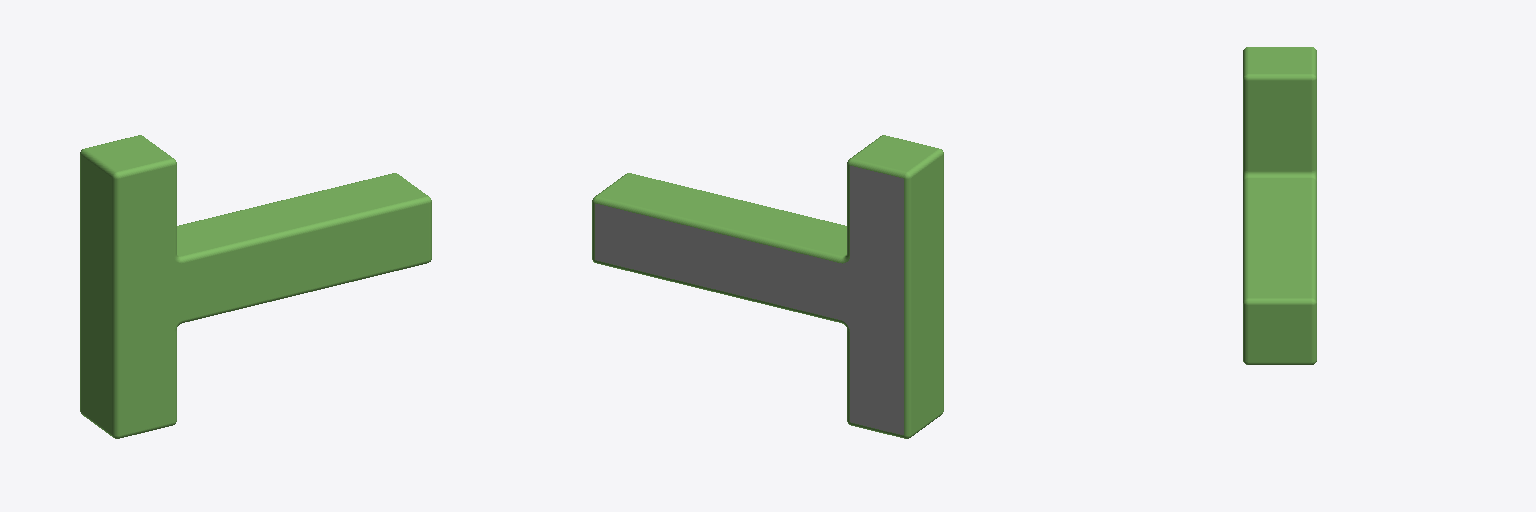
The model's file is push_t_green_transparent.obj.
3 views of the same model, side by side, from view 1: azimuth 30°, elevation 25°; view 2: azimuth 150°, elevation 25°; view 3: azimuth 270°, elevation 25° (orthographic).
Parts seen in each view (by area): view 1: mesh36, mesh44, mesh20, mesh39, mesh15, mesh43, mesh6; view 2: mesh41, mesh44, mesh20, mesh46, mesh21, mesh43, mesh10; view 3: mesh20, mesh25, mesh2, mesh43, mesh15, mesh21, mesh26, mesh27.
Boxes of the visible parts, x1,y1,x2,y2 form: mesh36: [120, 166, 428, 434]; mesh44: [81, 155, 111, 433]; mesh20: [177, 174, 425, 255]; mesh39: [112, 178, 119, 435]; mesh15: [181, 197, 428, 262]; mesh43: [87, 136, 170, 171]; mesh6: [183, 260, 428, 322]; mesh41: [595, 166, 903, 434]; mesh44: [912, 155, 942, 433]; mesh20: [598, 174, 846, 255]; mesh46: [904, 178, 911, 435]; mesh21: [595, 197, 842, 262]; mesh43: [853, 136, 936, 171]; mesh10: [595, 260, 840, 322]; mesh20: [1249, 178, 1310, 297]; mesh25: [1249, 81, 1310, 170]; mesh2: [1249, 305, 1310, 361]; mesh43: [1249, 47, 1310, 73]; mesh15: [1243, 178, 1248, 300]; mesh21: [1311, 178, 1316, 300]; mesh26: [1243, 79, 1248, 170]; mesh27: [1311, 79, 1316, 170].
Size of the model in its own units: 0.2 by 0.16 by 0.04.